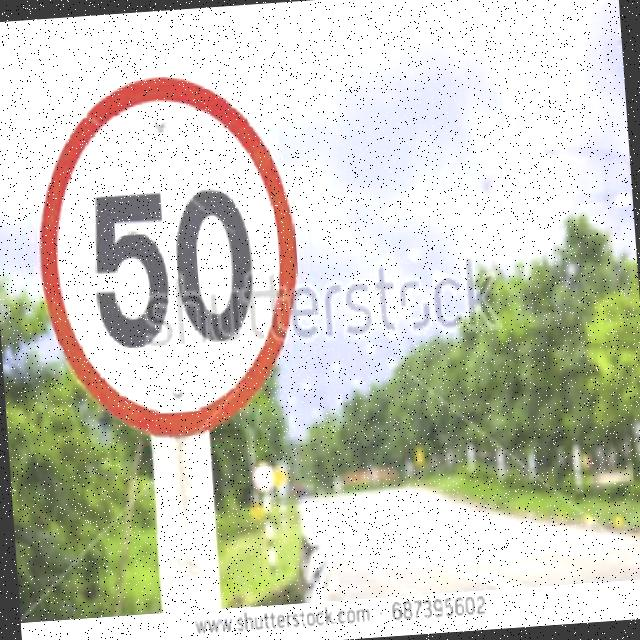Ograniczenie predkosci do 50: (36, 66, 301, 427)
